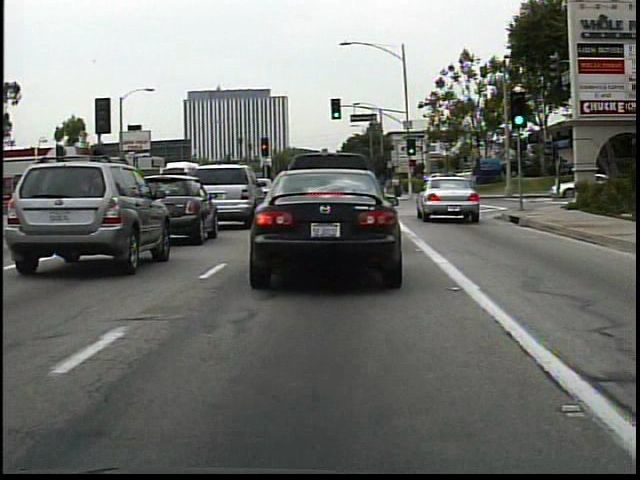person: (390, 174, 405, 199)
